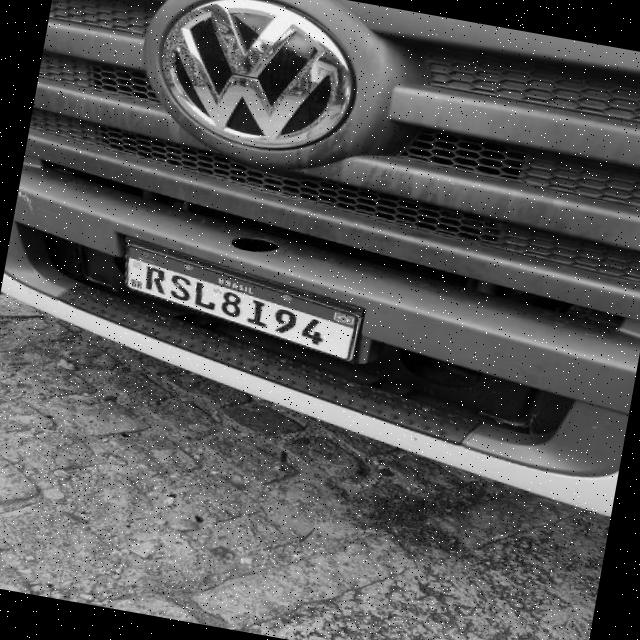placa_mercosul: (125, 242, 362, 359)
